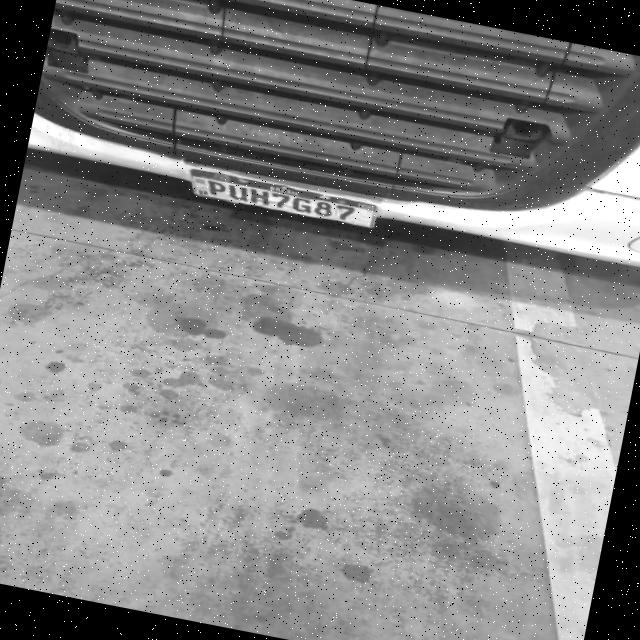placa_mercosul: (193, 169, 382, 231)
